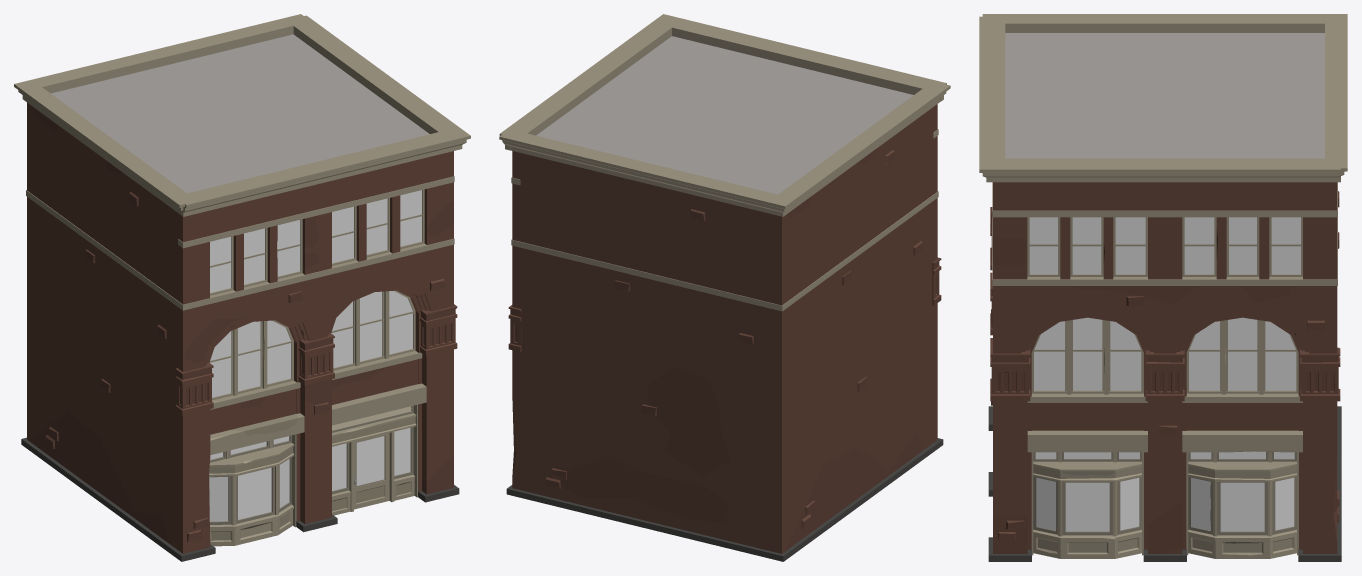
File: SM_Bldg_City_Generic_03.fbx
The picture shows the model from 3 angles, left to right: view 1: azimuth 30°, elevation 25°; view 2: azimuth 150°, elevation 25°; view 3: azimuth 270°, elevation 25°; orthographic projection. The views are drawn at different scales.
Parts seen in each view (by area): view 1: SM_Bldg_City_Generic_03, SM_Bldg_City_Generic_03_Glass, SM_Bldg_City_Generic_03_Door; view 2: SM_Bldg_City_Generic_03; view 3: SM_Bldg_City_Generic_03, SM_Bldg_City_Generic_03_Glass.
Boxes of the visible parts, x1,y1,x2,y2 form: SM_Bldg_City_Generic_03: (14, 14, 470, 561); SM_Bldg_City_Generic_03_Glass: (209, 190, 421, 521); SM_Bldg_City_Generic_03_Door: (353, 433, 389, 509); SM_Bldg_City_Generic_03: (499, 14, 950, 561); SM_Bldg_City_Generic_03: (979, 14, 1347, 561); SM_Bldg_City_Generic_03_Glass: (1029, 217, 1300, 531).
Size of the model in its own units: 1070 by 1270 by 1070.
